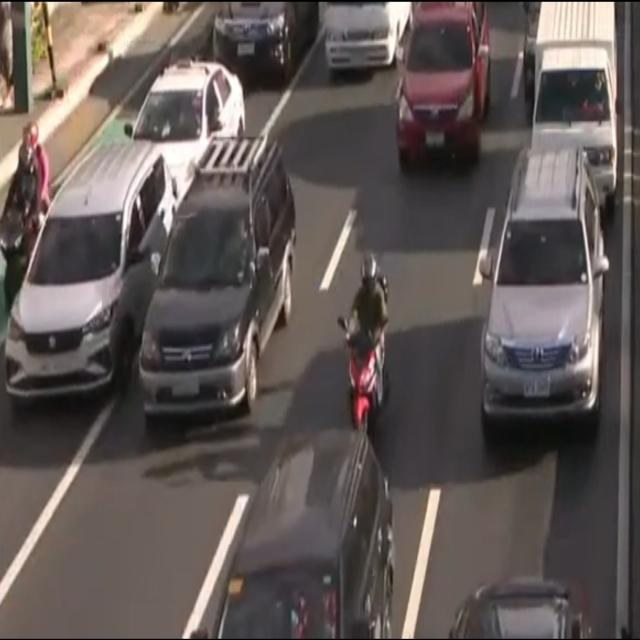Motorcycle: (0, 115, 54, 325), (340, 250, 387, 444)
Pick-up: (528, 0, 618, 204)
SUV: (140, 138, 296, 425), (6, 141, 174, 398), (210, 431, 394, 640), (479, 148, 605, 417), (394, 2, 488, 163), (210, 0, 320, 89)
Sedan: (128, 58, 245, 200)
